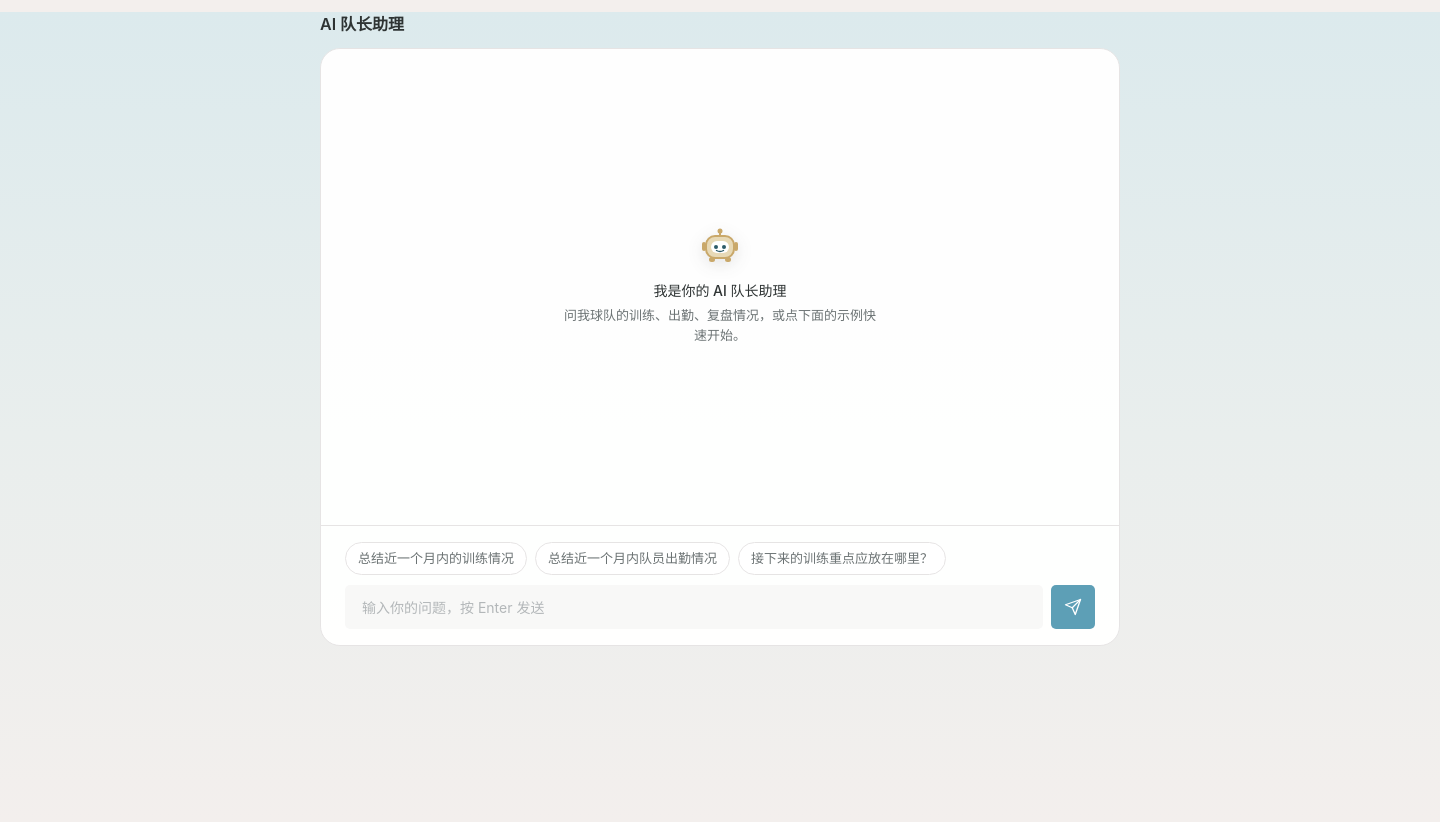
Scenario: Assistant › does not duplicate the user message after the request resolves
In the field named "提问输入": {"x": 694, "y": 607} [345,585,1043,629], type "唯一问题"
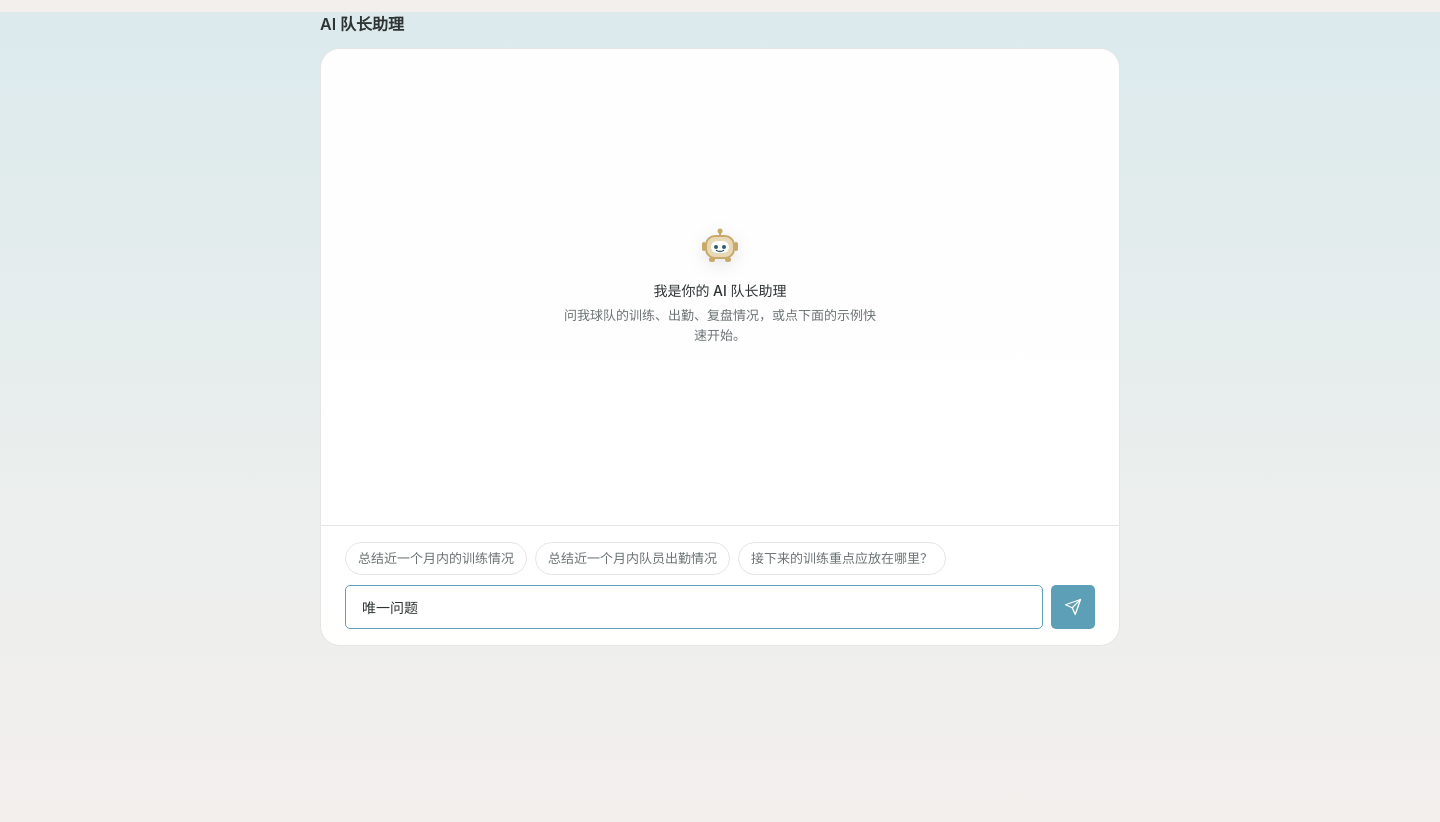
Click the button named "发送": {"x": 1073, "y": 607} [1051,585,1095,629]
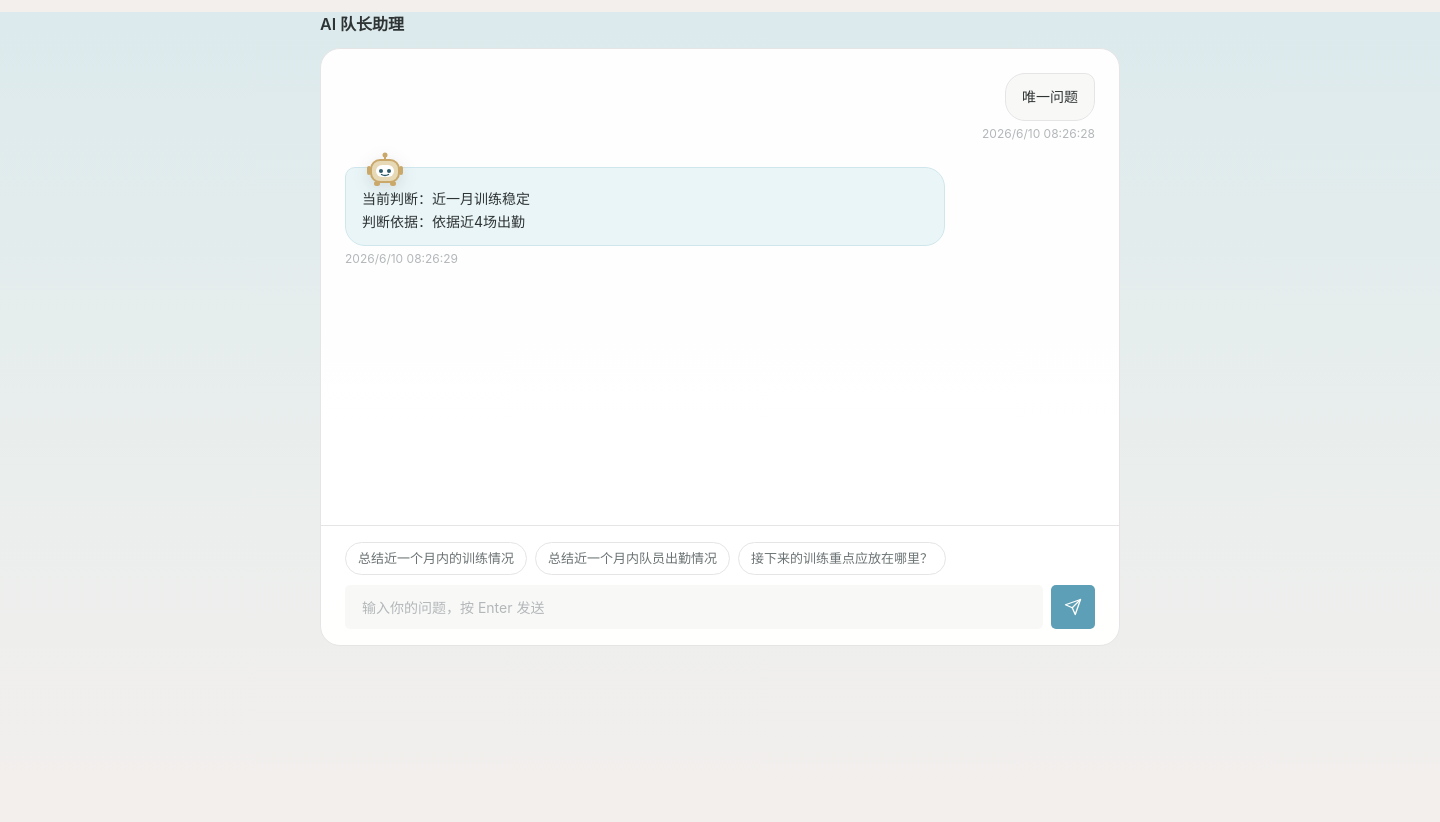
Now the text "当前判断：近一月训练稳定 判断依据：依据近4场出勤" is shown, box [345,167,945,246]
Now the text "唯一问题" is shown once, box [1005,73,1095,121]
